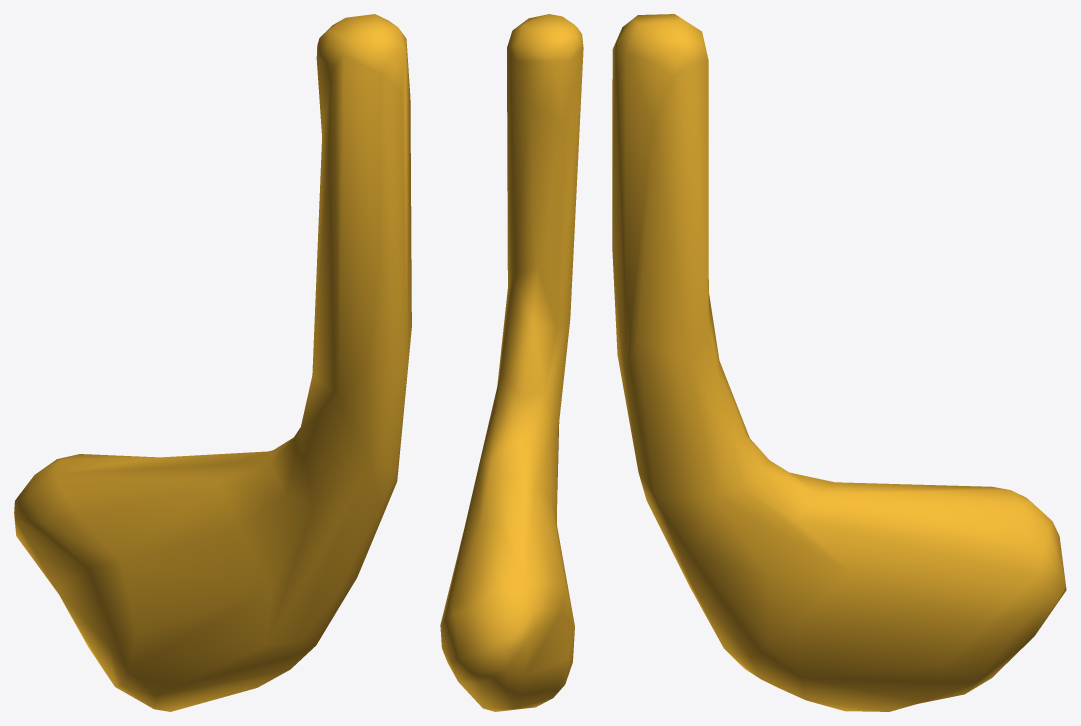
Rendered from nervoso-nasolacrimal-duct-l.glb.
The picture shows the model from 3 angles, left to right: view 1: azimuth 30°, elevation 25°; view 2: azimuth 150°, elevation 25°; view 3: azimuth 270°, elevation 25°; orthographic projection. The views are drawn at different scales.
Visible parts, largest first — view 1: Nasolacrimal duct.l; view 2: Nasolacrimal duct.l; view 3: Nasolacrimal duct.l.
Part boxes in pixels (x1,y1,x2,y2): Nasolacrimal duct.l: (14, 14, 411, 711); Nasolacrimal duct.l: (440, 14, 583, 711); Nasolacrimal duct.l: (612, 14, 1066, 711).
Bounding box in the file's own units: 0.00598 × 0.0205 × 0.0115.
